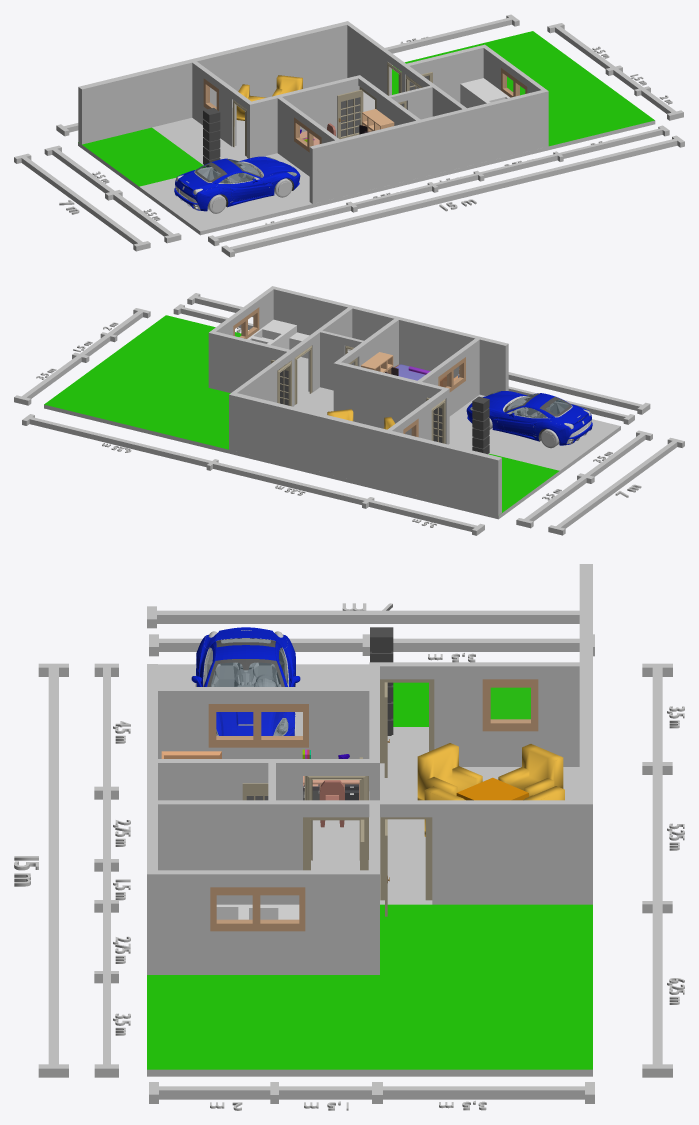
The model's file is percobaan t45 105 rumah baru baru.fbx.
3 views of the same model, one above another, from view 1: azimuth 30°, elevation 25°; view 2: azimuth 150°, elevation 25°; view 3: azimuth 270°, elevation 25° (orthographic). The views are drawn at different scales.
Parts seen in each view (by area): view 1: Cube.004, Cube.002, body, Cube.023, Cube.025, Cube.029, Cube.028, Cube.024, Cube.026, Door.003, Cube.022, Cube.010 (+2 smaller); view 2: Cube.004, Cube.002, body, Cube.026, Cube.023, Cube.029, Cube.028, Cube.024, Cube.022, Cube.025, Cube.010, lemari (+3 smaller); view 3: Cube.004, Cube.002, body, Cube.029, Cube.012, Cube.024, Cube.026, Cube.023, Cube.025, Cube.028, meja, Cube.010 (+4 smaller).
Boxes of the visible parts, x1,y1,x2,y2 form: Cube.004: (78,21,548,203); Cube.002: (78,31,655,235); body: (174,156,300,213); Cube.023: (221,135,684,257); Cube.025: (208,125,669,245); Cube.029: (547,23,683,120); Cube.028: (44,145,181,243); Cube.024: (14,153,150,251); Cube.026: (56,14,519,136); Door.003: (337,89,363,139); Cube.022: (460,78,509,108); Cube.010: (203,108,220,166); Cube.004: (208,286,508,515); Cube.002: (44,315,620,519); body: (466,391,592,448); Cube.026: (22,414,484,535); Cube.023: (187,293,650,414); Cube.029: (14,308,150,405); Cube.028: (516,430,652,528); Cube.024: (548,437,684,535); Cube.022: (247,319,309,358); Cube.025: (173,304,634,424); Cube.010: (472,396,489,454); lemari: (361,352,398,375); Cube.004: (147,564,592,974); Cube.002: (147,664,592,1076); body: (191,627,300,735); Cube.029: (149,1082,594,1103); Cube.012: (417,743,564,836); Cube.024: (147,606,579,628); Cube.026: (642,663,672,1077); Cube.023: (38,663,68,1077); Cube.025: (94,663,118,1077); Cube.028: (149,634,594,656); meja: (302,749,359,827); Cube.010: (370,627,393,735).
Size of the model in its own units: 8.8 by 0.8838 by 4.94.
